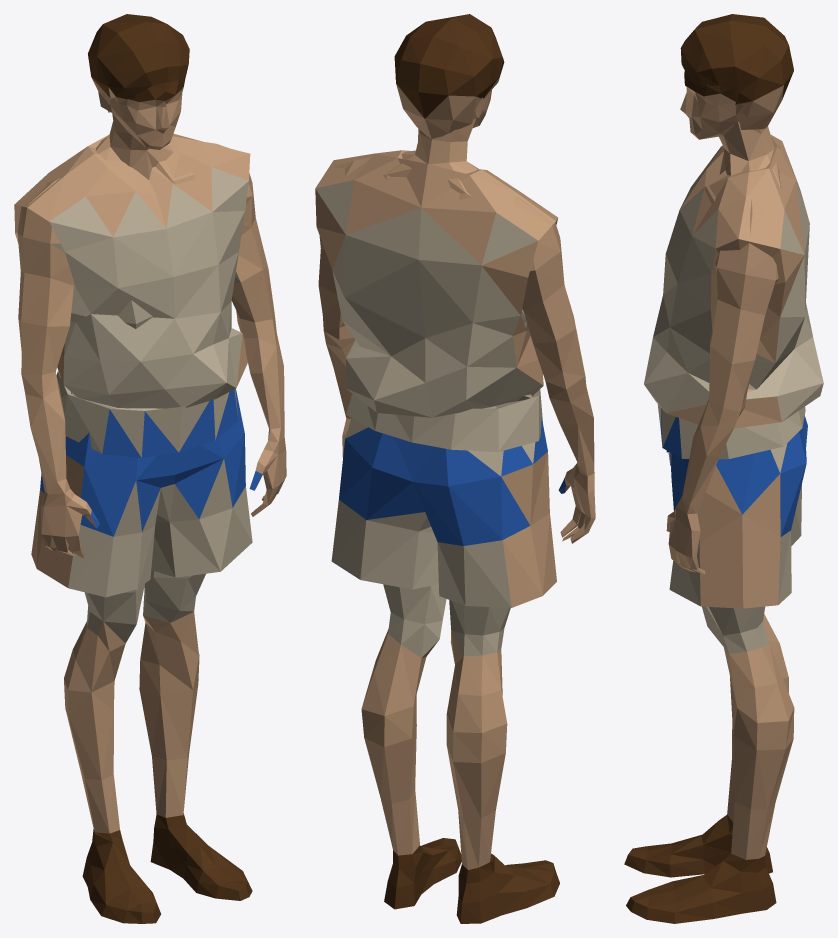
Rendered from unit.settler.bakeoff_a.glb.
The picture shows the model from 3 angles, left to right: view 1: azimuth 30°, elevation 25°; view 2: azimuth 150°, elevation 25°; view 3: azimuth 270°, elevation 25°; orthographic projection. The views are drawn at different scales.
Visible parts, largest first — view 1: asset; view 2: asset; view 3: asset.
Part boxes in pixels (bbox=[...]): asset: bbox=[14, 14, 286, 923]; asset: bbox=[315, 14, 595, 923]; asset: bbox=[624, 14, 823, 923].
Bounding box in the file's own units: 0.2799 × 0.9 × 0.188.
